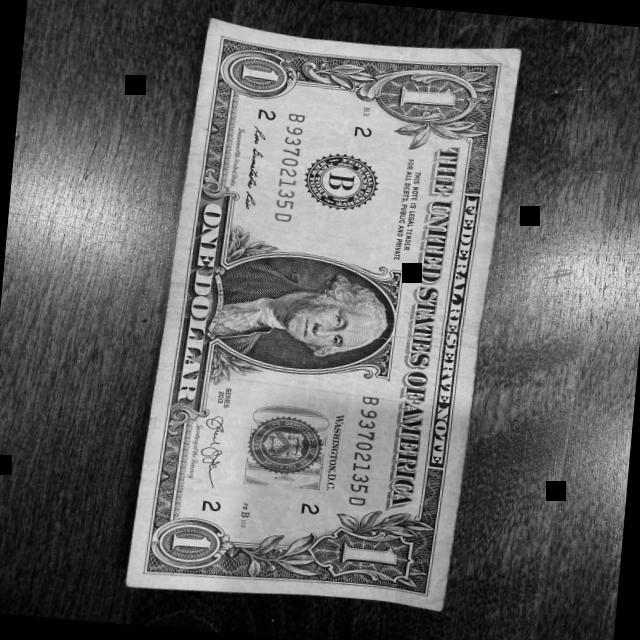one: (122, 18, 526, 620)
